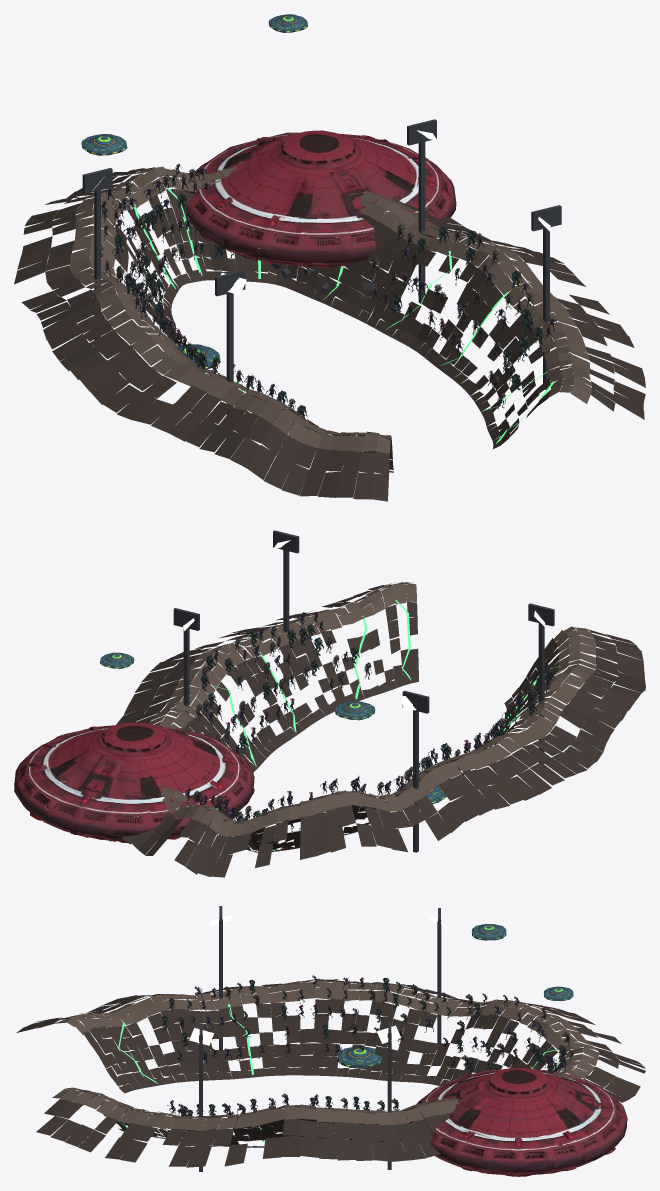
Rendered from arena-crater.glb.
3 views of the same model, one above another, from view 1: azimuth 30°, elevation 25°; view 2: azimuth 150°, elevation 25°; view 3: azimuth 270°, elevation 25° (orthographic). The views are drawn at different scales.
Parts seen in each view (by area): view 1: ladera, nodriza, torres, publico_1, publico_0, publico_2, brillo_grietas, platillo_0; view 2: ladera, nodriza, torres, publico_1, publico_2, publico_0, brillo_grietas, platillo_0; view 3: ladera, nodriza, publico_1, publico_0, publico_2, torres, platillo_roto, platillo_0, brillo_grietas.
Part boxes in pixels (x1,y1,x2,y2): ladera: (14, 166, 645, 501); nodriza: (182, 130, 456, 267); torres: (82, 119, 561, 437); publico_1: (101, 165, 553, 417); publico_0: (115, 163, 544, 417); publico_2: (101, 173, 556, 430); brillo_grietas: (133, 185, 554, 443); platillo_0: (81, 134, 127, 155); ladera: (85, 582, 645, 877); nodriza: (14, 722, 254, 843); torres: (173, 530, 554, 852); publico_1: (185, 612, 536, 847); publico_2: (199, 612, 550, 844); publico_0: (193, 621, 554, 841); brillo_grietas: (214, 600, 560, 851); platillo_0: (335, 701, 375, 720); ladera: (16, 978, 645, 1167); nodriza: (410, 1067, 627, 1176); publico_1: (160, 975, 566, 1134); publico_0: (162, 977, 573, 1140); publico_2: (173, 980, 569, 1133); torres: (199, 906, 441, 1171); platillo_roto: (337, 1046, 382, 1067); platillo_0: (471, 924, 506, 940); brillo_grietas: (117, 1004, 566, 1142).
Bounding box in the file's own units: 89.72 × 39.28 × 127.
Materials: 14 (9 with a texture image).
